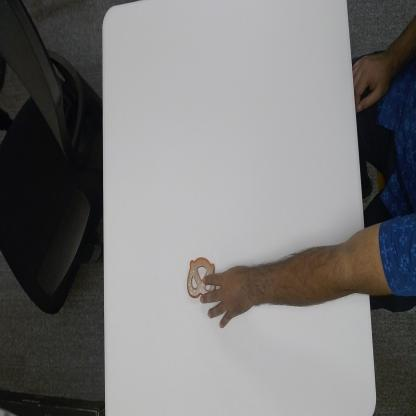Arm: (259, 214, 374, 311)
Hand: (202, 266, 258, 329)
Pretzel: (186, 256, 216, 301)
